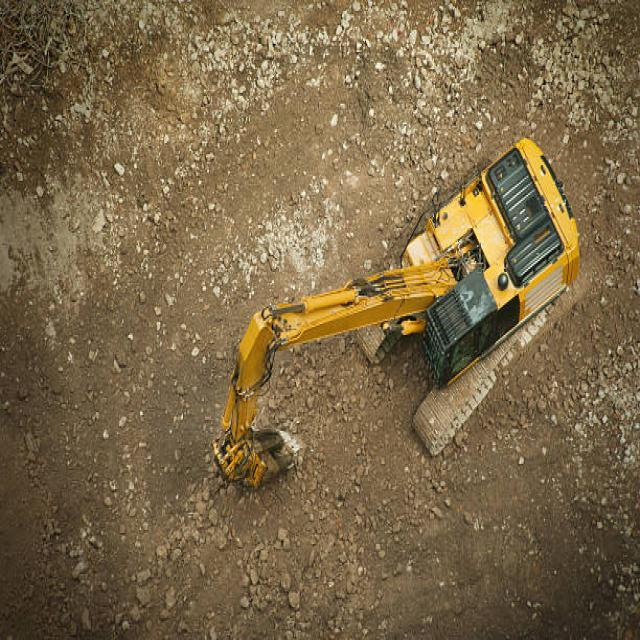excavator: (212, 138, 581, 491)
